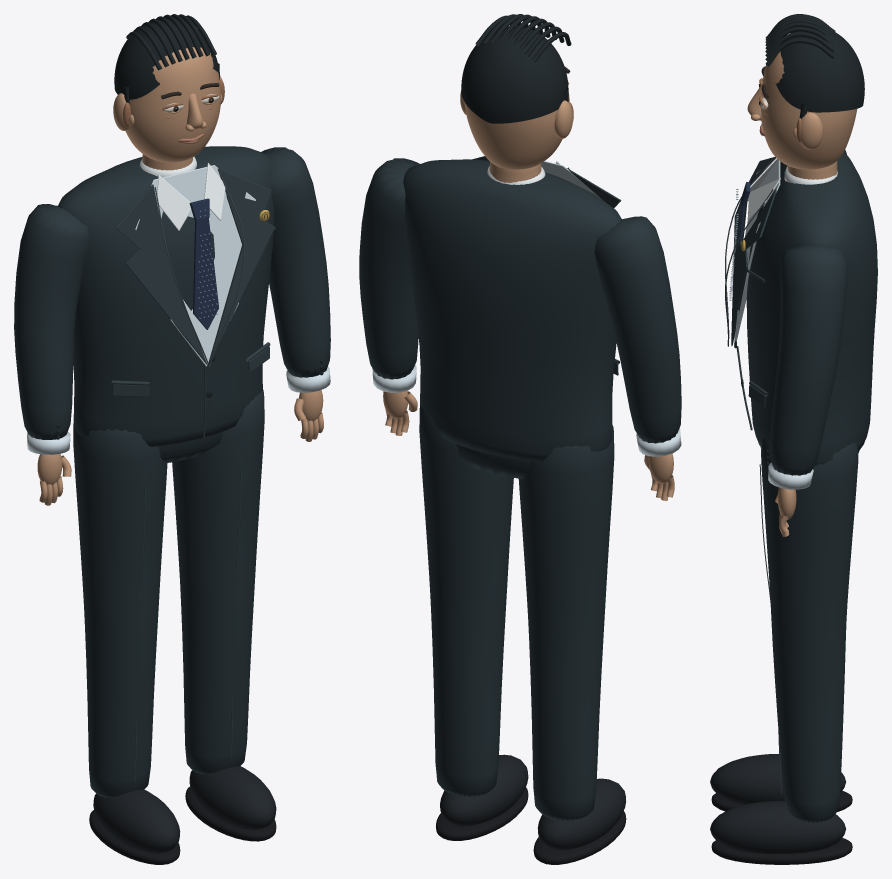
Rendered from DSW.fbx.
3 renders of one model, left to right at view 1: azimuth 30°, elevation 25°; view 2: azimuth 150°, elevation 25°; view 3: azimuth 270°, elevation 25°, orthographic.
Visible parts, largest first — view 1: Suit jacket, Left trouser leg.001, Right trouser leg.001, Suit sleeve, Suit sleeve.001, Sculpted head.001, Left lapel, Visible shirt front, Leather shoe.002, Leather shoe.003, Right lapel, Shaped hair cap.001 (+9 smaller); view 2: Suit jacket, Left trouser leg.001, Right trouser leg.001, Suit sleeve, Suit sleeve.001, Shaped hair cap.001, Sculpted head.001, Leather shoe.002, Leather shoe.003, Shoe sole.002, Shoe sole.003, Trouser hips.001 (+3 smaller); view 3: Right trouser leg.001, Suit jacket, Suit sleeve.001, Shaped hair cap.001, Leather shoe.003, Sculpted head.001, Leather shoe.002, Shoe sole.003, Right lapel, Visible shirt front, Ear.003, Visible shirt cuff.001 (+9 smaller).
Part boxes in pixels (x1,y1,x2,y2): Suit jacket: (58, 146, 274, 446); Left trouser leg.001: (73, 423, 167, 797); Right trouser leg.001: (172, 389, 264, 774); Suit sleeve: (14, 204, 89, 439); Suit sleeve.001: (261, 147, 330, 377); Sculpted head.001: (125, 47, 220, 162); Left lapel: (116, 184, 207, 365); Visible shirt front: (135, 165, 255, 366); Leather shoe.002: (93, 789, 180, 853); Leather shoe.003: (189, 766, 276, 830); Right lapel: (208, 168, 274, 365); Shaped hair cap.001: (114, 19, 219, 99); Suit jacket: (403, 159, 621, 462); Left trouser leg.001: (518, 425, 614, 820); Right trouser leg.001: (419, 405, 513, 796); Suit sleeve: (594, 216, 681, 443); Suit sleeve.001: (359, 158, 419, 379); Shaped hair cap.001: (461, 26, 568, 123); Sculpted head.001: (464, 92, 569, 169); Leather shoe.002: (537, 778, 626, 850); Leather shoe.003: (440, 754, 528, 826); Shoe sole.002: (533, 811, 626, 864); Shoe sole.003: (436, 787, 528, 840); Trouser hips.001: (456, 444, 530, 479); Right trouser leg.001: (761, 438, 858, 823); Suit jacket: (746, 152, 877, 465); Suit sleeve.001: (769, 244, 847, 475); Shaped hair cap.001: (775, 30, 864, 112); Leather shoe.003: (710, 801, 845, 853); Sculpted head.001: (761, 51, 857, 169); Leather shoe.002: (710, 754, 845, 804); Shoe sole.003: (711, 838, 852, 864); Right lapel: (731, 188, 776, 345); Visible shirt front: (734, 159, 780, 347); Ear.003: (800, 112, 823, 149); Visible shirt cuff.001: (768, 463, 813, 489).
Size of what is drawn, in the model's own units: 71.36 by 179 by 33.78.
